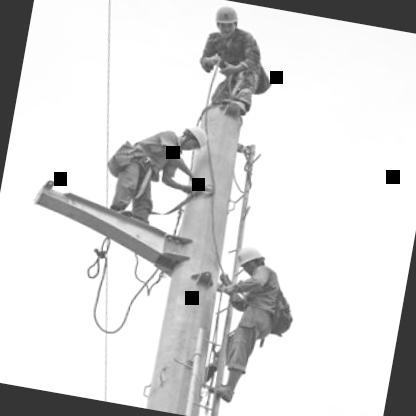helmet: (233, 239, 270, 278), (172, 119, 211, 155), (207, 2, 242, 40)
